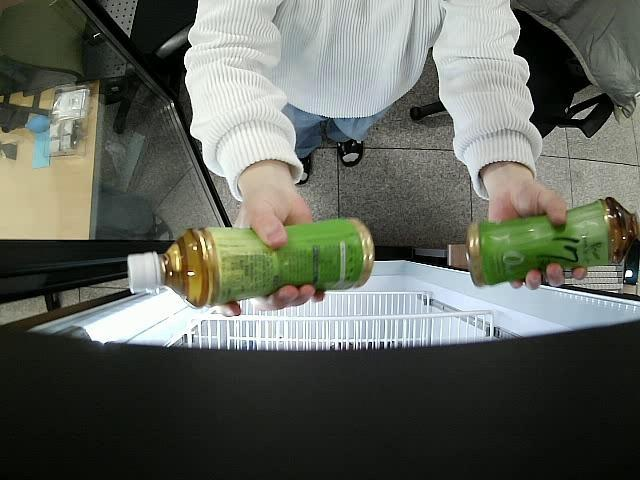19_17cha: (126, 219, 374, 308), (467, 196, 640, 288)
